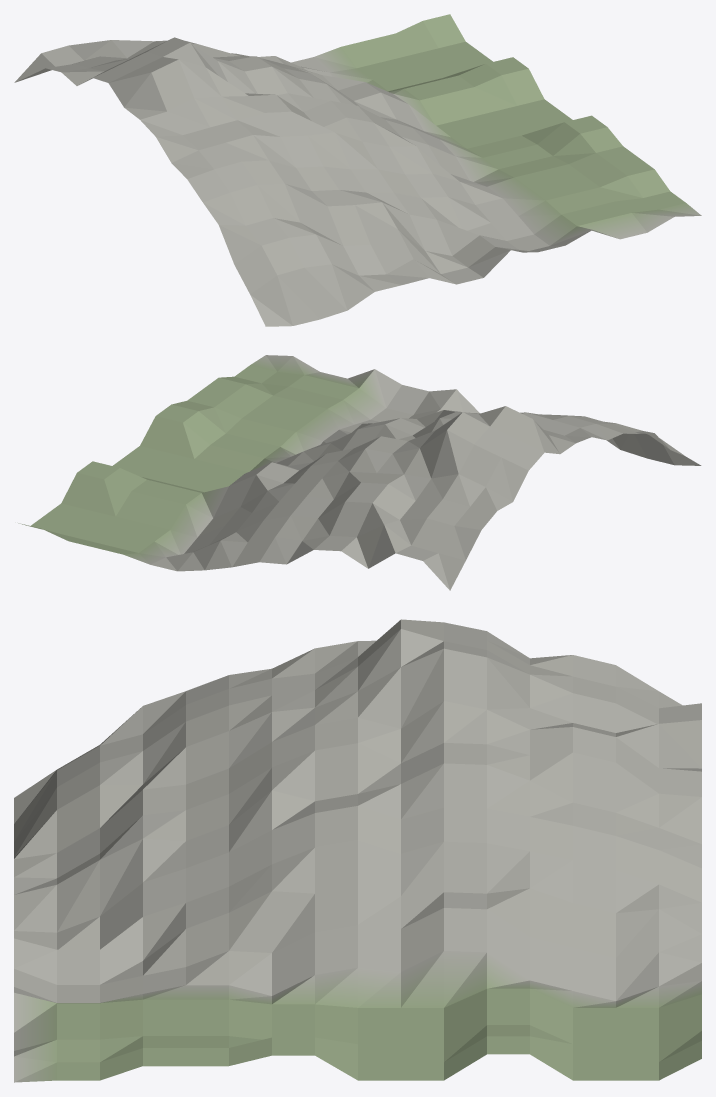
3 views of the same model, one above another, from view 1: azimuth 30°, elevation 25°; view 2: azimuth 150°, elevation 25°; view 3: azimuth 270°, elevation 25° (orthographic). The views are drawn at different scales.
Size of the model in its own units: 32 by 10.96 by 32.
